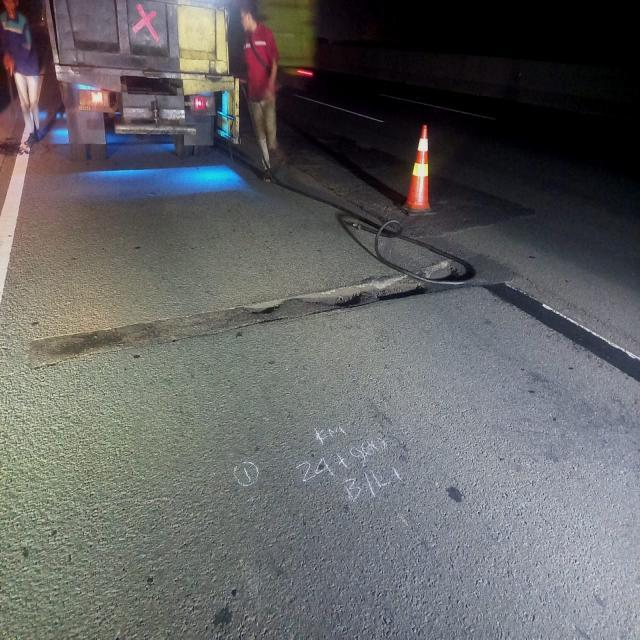Buraco: (229, 257, 466, 318)
